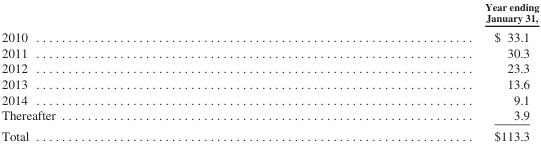table: (1, 0, 538, 142)
table column: (269, 0, 538, 142), (1, 0, 269, 142)
table column header: (1, 0, 538, 26)
table row: (1, 0, 538, 26), (1, 26, 538, 44), (1, 106, 538, 124), (1, 124, 538, 142), (1, 44, 538, 60), (1, 75, 538, 91), (1, 60, 538, 75), (1, 91, 538, 106)
